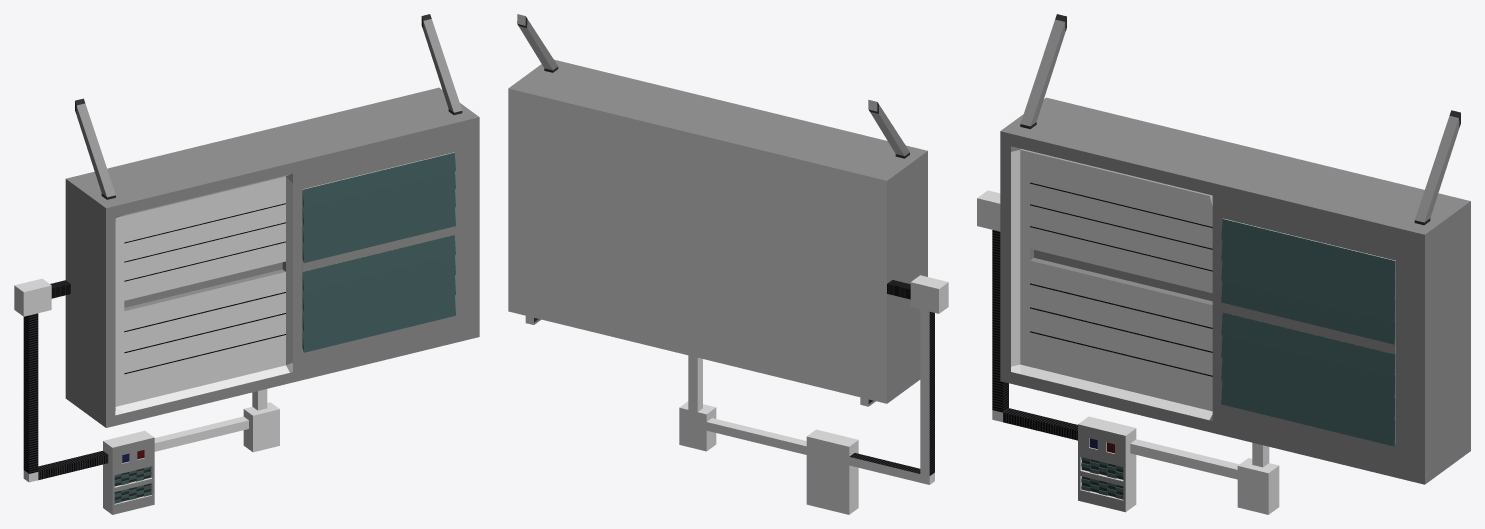
The model's file is Vent.fbx.
The picture shows the model from 3 angles, left to right: view 1: azimuth 30°, elevation 25°; view 2: azimuth 150°, elevation 25°; view 3: azimuth 330°, elevation 25°; orthographic projection. The views are drawn at different scales.
Visible parts, largest first — view 1: Vent; view 2: Vent; view 3: Vent.
Boxes of the visible parts, x1,y1,x2,y2 form: Vent: (14, 14, 479, 514); Vent: (508, 14, 948, 514); Vent: (977, 14, 1470, 514).
Size of the model in its own units: 182 by 170 by 31.38.
